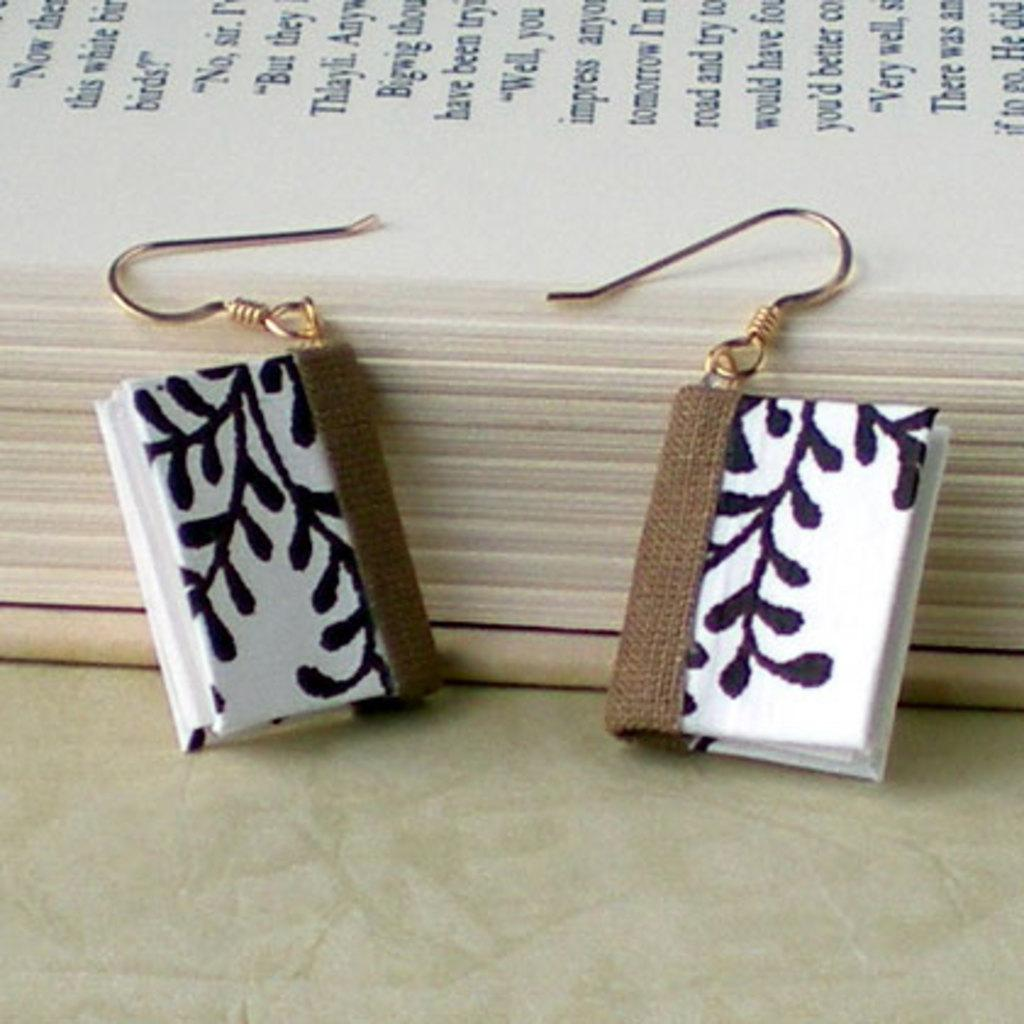earring: (550, 194, 957, 784), (86, 206, 437, 752)
